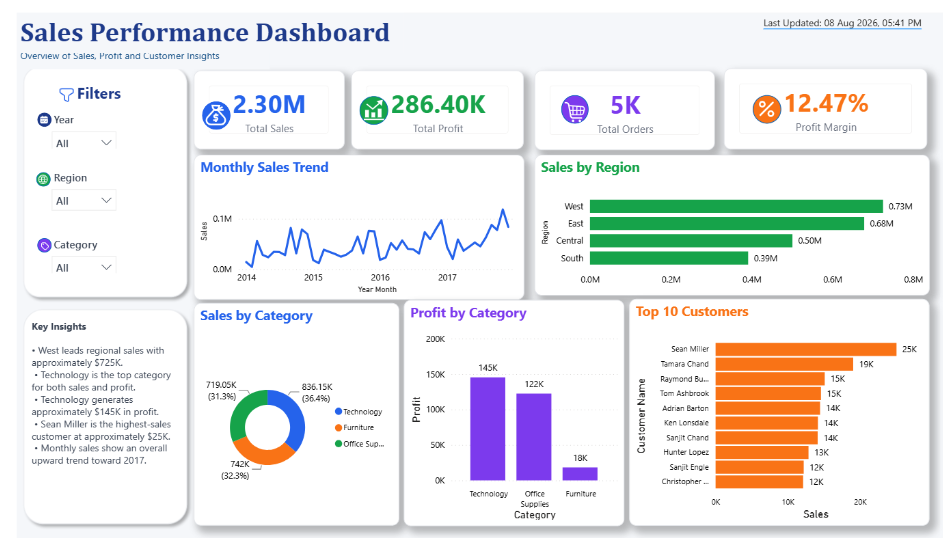

Layout of this report page (visuals, bound fields, positions):
{"tool":"powerbi","page":{"name":"Page 1","canvas":[1280,720],"ordinal":0},"visuals":[{"type":"shape","box":[0,65.2,246.5,338.8],"z":0},{"type":"cardVisual","fields":{"Data":["Sample-Superstore-Cleaned.Total Sales"]},"box":[246.5,79.5,210,109.8],"z":1000},{"type":"shape","box":[257.7,122.5,39.8,39.8],"z":2000},{"type":"image","box":[262.5,127.2,30.2,30.2],"z":3000},{"type":"cardVisual","fields":{"Data":["Sample-Superstore-Cleaned.Total Profit"]},"box":[466,79.5,240.2,109.8],"z":4000},{"type":"shape","box":[477.2,116.1,40,40],"z":5000},{"type":"image","box":[482,120.9,30.2,30.2],"z":6000},{"type":"cardVisual","fields":{"Data":["Sample-Superstore-Cleaned.Total Orders"]},"box":[720.5,79.5,251.3,111.3],"z":7000},{"type":"shape","box":[757.1,114.5,38.2,39.8],"z":8000},{"type":"image","box":[761.9,122.5,28.6,30.2],"z":9000},{"type":"cardVisual","fields":{"Data":["Sample-Superstore-Cleaned.Profit Margin"]},"box":[984.6,77.9,283.1,112.9],"z":10000},{"type":"shape","box":[1024.4,114.5,39.8,39.8],"z":11000},{"type":"image","box":[1029.1,119.3,30.2,30.2],"z":12000},{"type":"lineChart","title":"Monthly Sales Trend","fields":{"Y":["Sum(Sample-Superstore-Cleaned (2).Sales)"],"Category":["Sample-Superstore-Cleaned (2).Year_Month"]},"box":[246.5,197.2,459.7,202],"z":13000},{"type":"clusteredBarChart","title":"Sales by Region","fields":{"Category":["Sample-Superstore-Cleaned (2).Region"],"Y":["Sum(Sample-Superstore-Cleaned (2).Sales)"]},"box":[720,198,550,196],"z":14000},{"type":"donutChart","fields":{"Category":["Sample-Superstore-Cleaned (2).Category"],"Y":["Sum(Sample-Superstore-Cleaned (2).Sales)"]},"box":[246.5,404,286.3,310.2],"z":15000},{"type":"clusteredColumnChart","title":"Profit by Category","fields":{"Category":["Sample-Superstore-Cleaned (2).Category"],"Y":["Sum(Sample-Superstore-Cleaned (2).Profit)"]},"box":[539.2,399.2,307,314.9],"z":16000},{"type":"clusteredBarChart","title":"Top 10 Customers","fields":{"Category":["Sample-Superstore-Cleaned (2).Customer_Name"],"Y":["Sum(Sample-Superstore-Cleaned (2).Sales)"]},"box":[852,398,418,316],"z":17000},{"type":"slicer","fields":{"Values":["Sample-Superstore-Cleaned (2).Order_Year"]},"box":[38.2,133.9,109.8,55.7],"z":18000},{"type":"slicer","fields":{"Values":["Sample-Superstore-Cleaned (2).Region"]},"box":[38.2,213.8,109.8,68.4],"z":19000},{"type":"slicer","fields":{"Values":["Sample-Superstore-Cleaned (2).Category"]},"box":[38.2,306.4,109.8,55.7],"z":20000},{"type":"textbox","box":[70,92.3,88.8,46.2],"z":21000},{"type":"textbox","box":[0,46.1,351.5,33.4],"z":22000},{"type":"textbox","box":[0,0,539.2,55.7],"z":23000},{"type":"image","box":[54.1,103.4,30,22.5],"z":24000},{"type":"shape","box":[0,404,246.5,316.5],"z":25000},{"type":"textbox","box":[1033.9,0,237,28.6],"z":26000},{"type":"textbox","title":"Key Insights","box":[15.9,426.3,217.9,283.1],"z":27000},{"type":"shape","box":[28,139,20,20],"z":28000},{"type":"image","box":[31,140,13,16],"z":29000},{"type":"shape","box":[27,222,20,20],"z":30000},{"type":"image","box":[30,224,13,16],"z":31000},{"type":"shape","box":[29,314,20,20],"z":32000},{"type":"image","box":[33,316,13,16],"z":33000}]}

Visuals, with their boxes in screenshot pixels (x1, y1, x2, y2), scaled from the page's 1280x720 canvas onto the 943x538 screenshot:
shape: {"x1": 0, "y1": 49, "x2": 182, "y2": 302}
cardVisual - Sample-Superstore-Cleaned.Total Sales: {"x1": 182, "y1": 59, "x2": 336, "y2": 141}
shape: {"x1": 190, "y1": 92, "x2": 219, "y2": 121}
image: {"x1": 193, "y1": 95, "x2": 216, "y2": 118}
cardVisual - Sample-Superstore-Cleaned.Total Profit: {"x1": 343, "y1": 59, "x2": 520, "y2": 141}
shape: {"x1": 352, "y1": 87, "x2": 381, "y2": 117}
image: {"x1": 355, "y1": 90, "x2": 377, "y2": 113}
cardVisual - Sample-Superstore-Cleaned.Total Orders: {"x1": 531, "y1": 59, "x2": 716, "y2": 143}
shape: {"x1": 558, "y1": 86, "x2": 586, "y2": 115}
image: {"x1": 561, "y1": 92, "x2": 582, "y2": 114}
cardVisual - Sample-Superstore-Cleaned.Profit Margin: {"x1": 725, "y1": 58, "x2": 934, "y2": 143}
shape: {"x1": 755, "y1": 86, "x2": 784, "y2": 115}
image: {"x1": 758, "y1": 89, "x2": 780, "y2": 112}
"Monthly Sales Trend" lineChart: {"x1": 182, "y1": 147, "x2": 520, "y2": 298}
"Sales by Region" clusteredBarChart: {"x1": 530, "y1": 148, "x2": 936, "y2": 294}
donutChart - Sample-Superstore-Cleaned (2).Category x Sum(Sample-Superstore-Cleaned (2).Sales): {"x1": 182, "y1": 302, "x2": 393, "y2": 534}
"Profit by Category" clusteredColumnChart: {"x1": 397, "y1": 298, "x2": 623, "y2": 534}
"Top 10 Customers" clusteredBarChart: {"x1": 628, "y1": 297, "x2": 936, "y2": 534}
slicer - Sample-Superstore-Cleaned (2).Order_Year: {"x1": 28, "y1": 100, "x2": 109, "y2": 142}
slicer - Sample-Superstore-Cleaned (2).Region: {"x1": 28, "y1": 160, "x2": 109, "y2": 211}
slicer - Sample-Superstore-Cleaned (2).Category: {"x1": 28, "y1": 229, "x2": 109, "y2": 271}
textbox: {"x1": 52, "y1": 69, "x2": 117, "y2": 103}
textbox: {"x1": 0, "y1": 34, "x2": 259, "y2": 59}
textbox: {"x1": 0, "y1": 0, "x2": 397, "y2": 42}
image: {"x1": 40, "y1": 77, "x2": 62, "y2": 94}
shape: {"x1": 0, "y1": 302, "x2": 182, "y2": 537}
textbox: {"x1": 762, "y1": 0, "x2": 936, "y2": 21}
"Key Insights" textbox: {"x1": 12, "y1": 319, "x2": 172, "y2": 530}
shape: {"x1": 21, "y1": 104, "x2": 35, "y2": 119}
image: {"x1": 23, "y1": 105, "x2": 32, "y2": 117}
shape: {"x1": 20, "y1": 166, "x2": 35, "y2": 181}
image: {"x1": 22, "y1": 167, "x2": 32, "y2": 179}
shape: {"x1": 21, "y1": 235, "x2": 36, "y2": 250}
image: {"x1": 24, "y1": 236, "x2": 34, "y2": 248}
